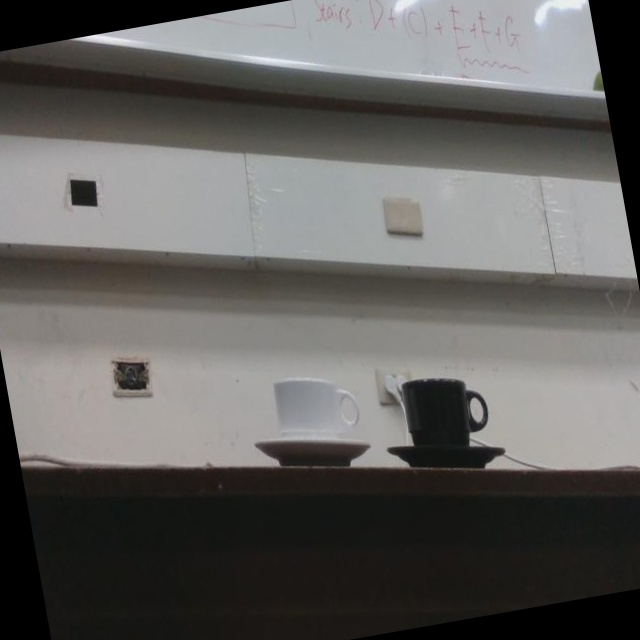black: (381, 370, 502, 479)
white: (248, 370, 368, 476)
